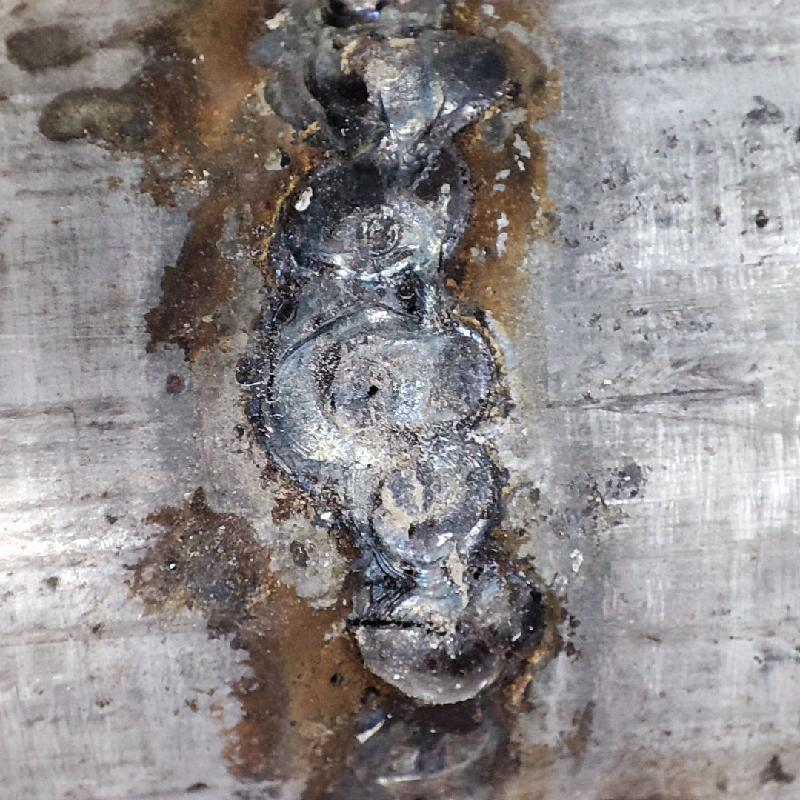Surface_pores: (263, 281, 503, 660), (334, 363, 398, 424)
wrong_size: (268, 2, 489, 280)
